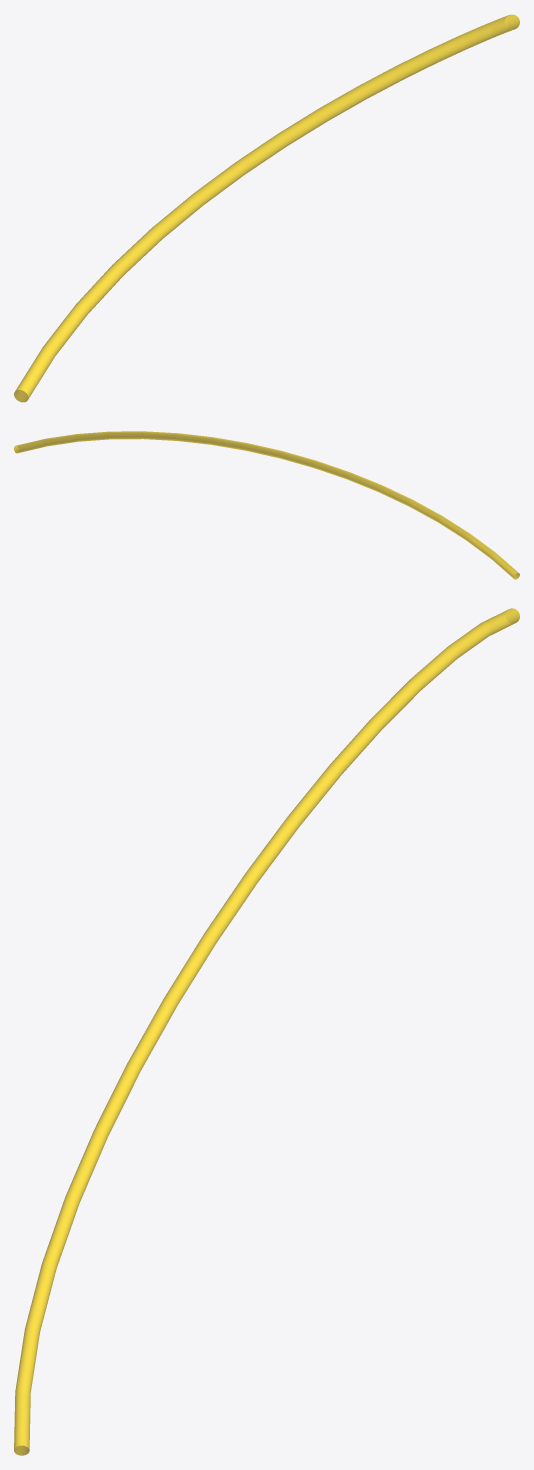
File: Event_15818458_track_29.fbx
3 views of the same model, one above another, from view 1: azimuth 90°, elevation 25°; view 2: azimuth 150°, elevation 25°; view 3: azimuth 270°, elevation 25° (orthographic). The views are drawn at different scales.
Parts seen in each view (by area): view 1: Model; view 2: Model; view 3: Model.
Part boxes in pixels (x1,y1,x2,y2): Model: (14,14,519,402); Model: (14,431,519,579); Model: (14,608,519,1455).
Bounding box in the file's own units: 3.68 × 0.7707 × 1.3.
